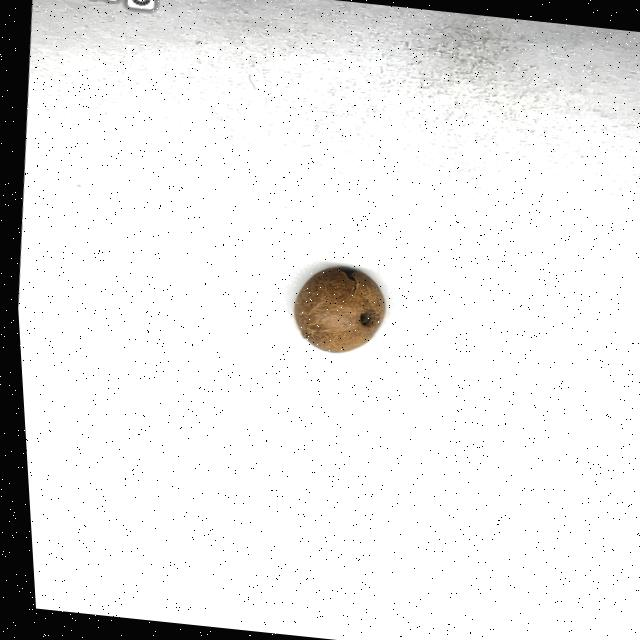Insect damage: (286, 262, 385, 359)
